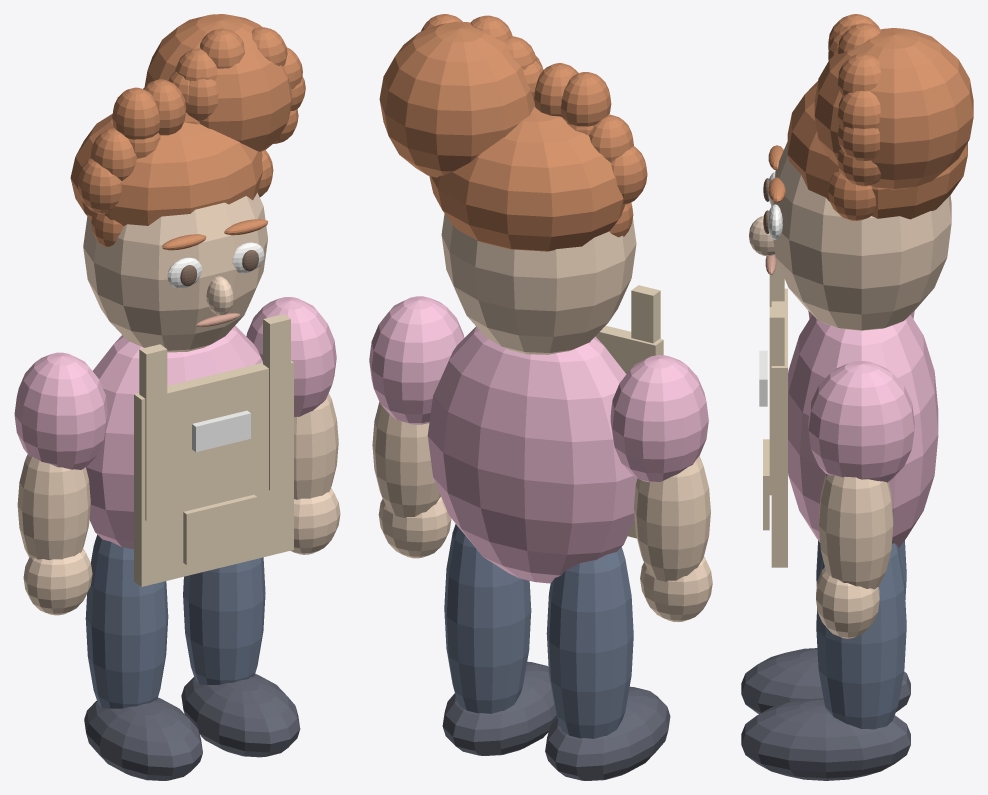
Rendered from irem.glb.
3 renders of one model, left to right at view 1: azimuth 30°, elevation 25°; view 2: azimuth 150°, elevation 25°; view 3: azimuth 270°, elevation 25°, orthographic. The views are drawn at different scales.
Parts seen in each view (by area): view 1: apron, head, hair, leg0, torso, bun, leg1, sleeve0, shoe0, shoe1, arm0, sleeve1 (+18 smaller); view 2: torso, hair, head, bun, leg0, leg1, sleeve0, sleeve1, arm0, shoe0, shoe1, arm1 (+10 smaller); view 3: head, bun, torso, sleeve1, shoe1, leg1, arm1, hair, shoe0, apron, hand1, curl13 (+13 smaller).
Part boxes in pixels (box(x1,y1,x2,y2)): apron: box(134, 360, 293, 586); head: box(83, 192, 267, 352); hair: box(70, 114, 262, 226); leg0: box(85, 535, 168, 708); torso: box(86, 325, 262, 549); bun: box(144, 14, 292, 151); leg1: box(183, 557, 265, 684); sleeve0: box(14, 352, 107, 469); shoe0: box(84, 697, 202, 780); shoe1: box(181, 673, 300, 757); arm0: box(17, 454, 90, 560); sleeve1: box(246, 297, 336, 417); torso: box(427, 326, 637, 583); hair: box(429, 106, 624, 251); head: box(441, 213, 636, 354); bun: box(379, 21, 534, 177); leg0: box(546, 547, 633, 738); leg1: box(444, 524, 531, 713); sleeve0: box(610, 355, 708, 482); sleeve1: box(369, 296, 464, 424); arm0: box(634, 456, 710, 581); shoe0: box(545, 686, 670, 780); shoe1: box(442, 661, 557, 755); arm1: box(372, 402, 440, 517); head: box(771, 142, 951, 330); bun: box(814, 28, 973, 189); torso: box(788, 315, 938, 548); sleeve1: box(808, 361, 914, 482); shoe1: box(741, 698, 910, 780); leg1: box(816, 543, 906, 729); arm1: box(819, 474, 893, 589); hair: box(787, 81, 967, 219); shoe0: box(741, 648, 910, 713); apron: box(771, 288, 787, 567); hand1: box(816, 567, 879, 638); curl13: box(828, 170, 876, 220).
Size of the model in its own units: 1.41 by 3.03 by 0.8545.
